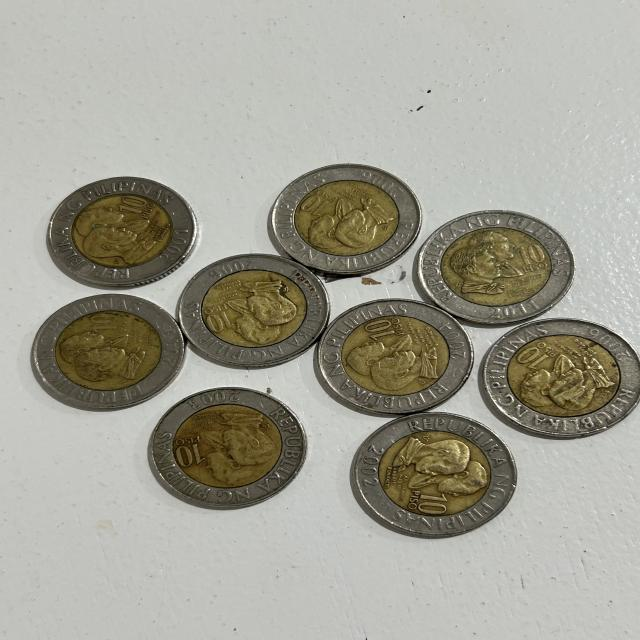10_Old_Front: (399, 483, 465, 523), (162, 431, 213, 474), (360, 310, 415, 349)
